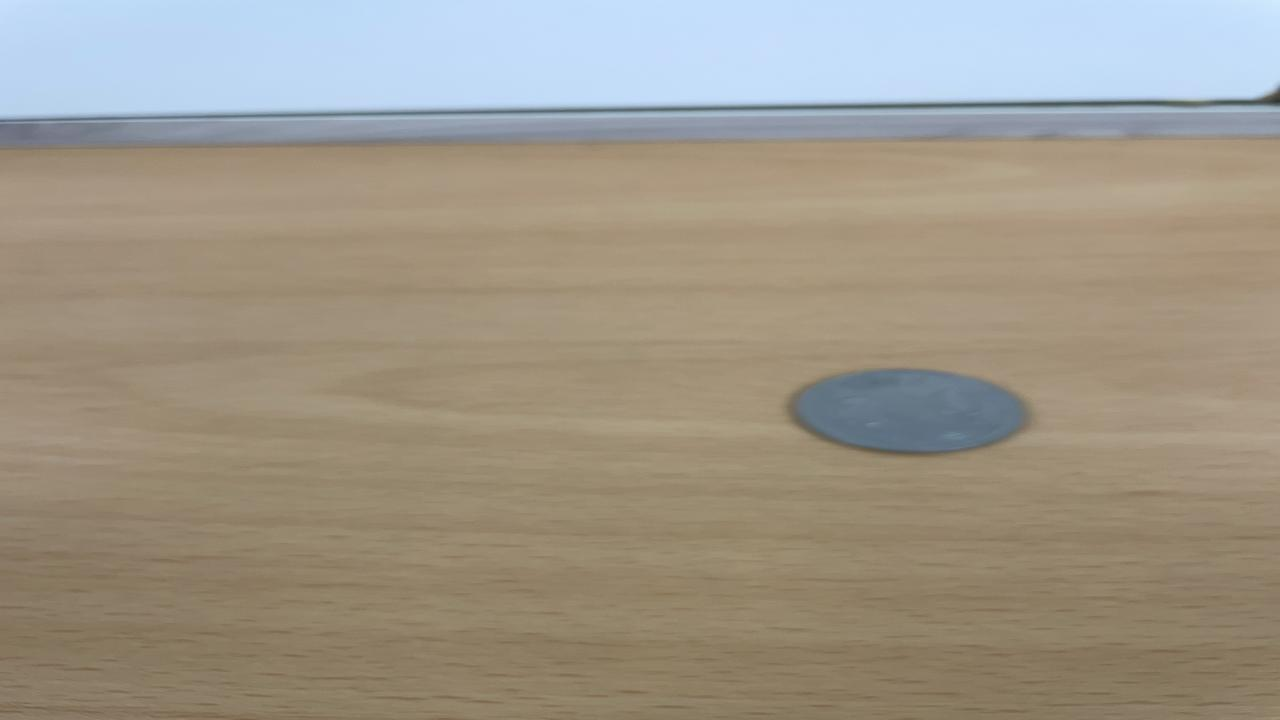coin: (789, 367, 1034, 455)
